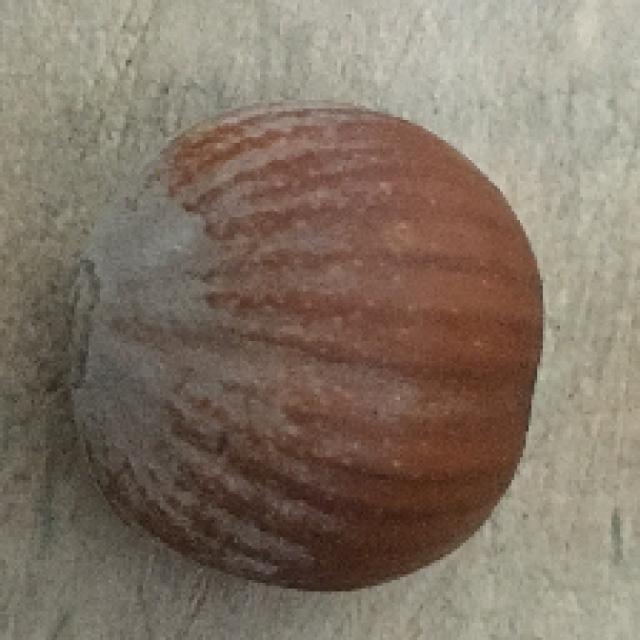qualityHazelnut: (64, 110, 544, 591)
